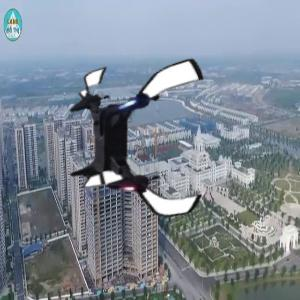drone: (56, 57, 229, 230)
